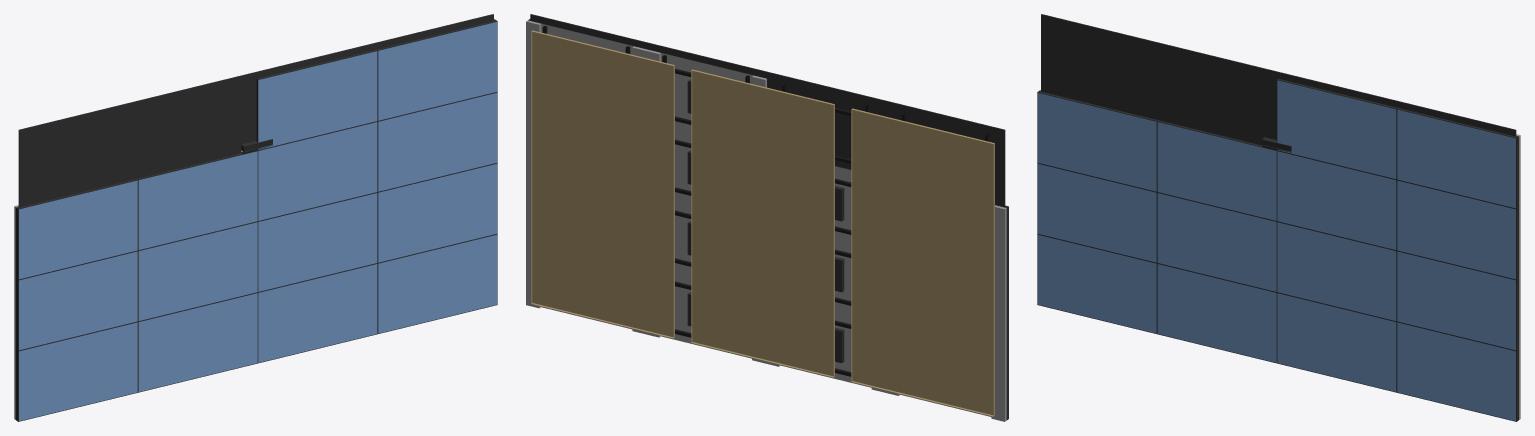
Rendered from CAVE2-BackWall.fbx.
3 views of the same model, side by side, from view 1: azimuth 30°, elevation 25°; view 2: azimuth 150°, elevation 25°; view 3: azimuth 330°, elevation 25° (orthographic).
Visible parts, largest first — view 1: TopBoard, Planar-ThinBezelLCD-42in.009, Planar-ThinBezelLCD-42in.006, Planar-ThinBezelLCD-42in.001, Planar-ThinBezelLCD-42in.013, Planar-ThinBezelLCD-42in.008, Planar-ThinBezelLCD-42in.012, Planar-ThinBezelLCD-42in.005, Planar-ThinBezelLCD-42in.003, Planar-ThinBezelLCD-42in, Planar-ThinBezelLCD-42in.011, Planar-ThinBezelLCD-42in.010 (+4 smaller); view 2: Wood Support, Wood Support.001, Wood Support.002, TopBoard, Planar-ThinBezelLCD-42in.013, TopBoard.001, Planar-ThinBezelLCD-42in.012, Planar-ThinBezelLCD-42in, Planar-ThinBezelLCD-42in.002, Planar-ThinBezelLCD-42in.001, Planar-ThinBezelLCD-42in.008, Planar-ThinBezelLCD-42in.005 (+7 smaller); view 3: TopBoard, Planar-ThinBezelLCD-42in.012, Planar-ThinBezelLCD-42in.004, Planar-ThinBezelLCD-42in.011, Planar-ThinBezelLCD-42in.003, Planar-ThinBezelLCD-42in.009, Planar-ThinBezelLCD-42in.008, Planar-ThinBezelLCD-42in.013, Planar-ThinBezelLCD-42in.007, Planar-ThinBezelLCD-42in.002, Planar-ThinBezelLCD-42in.001, Planar-ThinBezelLCD-42in.010 (+4 smaller).
Boxes of the visible parts, left/top/right/bottom form: TopBoard: left=18, top=72, right=256, bottom=207; Planar-ThinBezelLCD-42in.009: left=14, top=179, right=138, bottom=279; Planar-ThinBezelLCD-42in.006: left=14, top=251, right=138, bottom=350; Planar-ThinBezelLCD-42in.001: left=14, top=322, right=138, bottom=421; Planar-ThinBezelLCD-42in.013: left=256, top=49, right=377, bottom=150; Planar-ThinBezelLCD-42in.008: left=137, top=150, right=257, bottom=250; Planar-ThinBezelLCD-42in.012: left=377, top=19, right=497, bottom=121; Planar-ThinBezelLCD-42in.005: left=258, top=192, right=377, bottom=292; Planar-ThinBezelLCD-42in.003: left=378, top=234, right=497, bottom=333; Planar-ThinBezelLCD-42in: left=138, top=292, right=257, bottom=392; Planar-ThinBezelLCD-42in.011: left=378, top=92, right=497, bottom=192; Planar-ThinBezelLCD-42in.010: left=258, top=121, right=377, bottom=221; Wood Support: left=851, top=108, right=994, bottom=416; Wood Support.001: left=691, top=69, right=834, bottom=377; Wood Support.002: left=531, top=30, right=674, bottom=338; TopBoard: left=767, top=72, right=1005, bottom=206; Planar-ThinBezelLCD-42in.013: left=645, top=49, right=767, bottom=130; TopBoard.001: left=530, top=14, right=767, bottom=78; Planar-ThinBezelLCD-42in.012: left=526, top=19, right=647, bottom=93; Planar-ThinBezelLCD-42in: left=765, top=308, right=885, bottom=392; Planar-ThinBezelLCD-42in.002: left=645, top=269, right=765, bottom=363; Planar-ThinBezelLCD-42in.001: left=885, top=348, right=1008, bottom=421; Planar-ThinBezelLCD-42in.008: left=835, top=166, right=851, bottom=240; Planar-ThinBezelLCD-42in.005: left=675, top=198, right=691, bottom=272; TopBoard: left=1041, top=14, right=1278, bottom=145; Planar-ThinBezelLCD-42in.012: left=1396, top=108, right=1520, bottom=208; Planar-ThinBezelLCD-42in.004: left=1396, top=251, right=1520, bottom=350; Planar-ThinBezelLCD-42in.011: left=1396, top=180, right=1520, bottom=279; Planar-ThinBezelLCD-42in.003: left=1396, top=322, right=1520, bottom=421; Planar-ThinBezelLCD-42in.009: left=1037, top=90, right=1158, bottom=192; Planar-ThinBezelLCD-42in.008: left=1157, top=120, right=1276, bottom=221; Planar-ThinBezelLCD-42in.013: left=1277, top=78, right=1397, bottom=179; Planar-ThinBezelLCD-42in.007: left=1157, top=192, right=1276, bottom=292; Planar-ThinBezelLCD-42in.002: left=1277, top=292, right=1396, bottom=392; Planar-ThinBezelLCD-42in.001: left=1037, top=234, right=1156, bottom=333; Planar-ThinBezelLCD-42in.010: left=1277, top=150, right=1396, bottom=250.
Size of the model in its own units: 4.1 by 2.37 by 0.1127.
